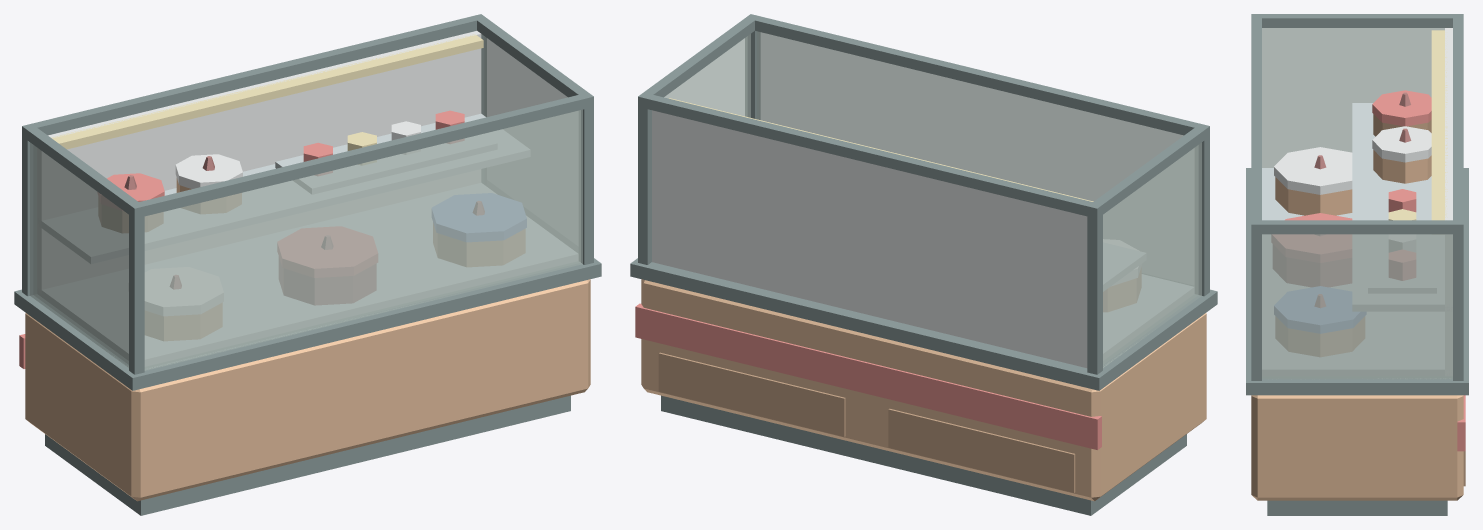
File: display_case.glb
3 renders of one model, left to right at view 1: azimuth 30°, elevation 25°; view 2: azimuth 150°, elevation 25°; view 3: azimuth 270°, elevation 25°, orthographic. The views are drawn at different scales.
Visible parts, largest first — view 1: DisplayCase; view 2: DisplayCase; view 3: DisplayCase.
Boxes of the visible parts, x1,y1,x2,y2 form: DisplayCase: (14,14,601,515); DisplayCase: (630,14,1217,515); DisplayCase: (1246,14,1468,515).
Bounding box in the file's own units: 0.8727 × 0.5636 × 0.3818.
